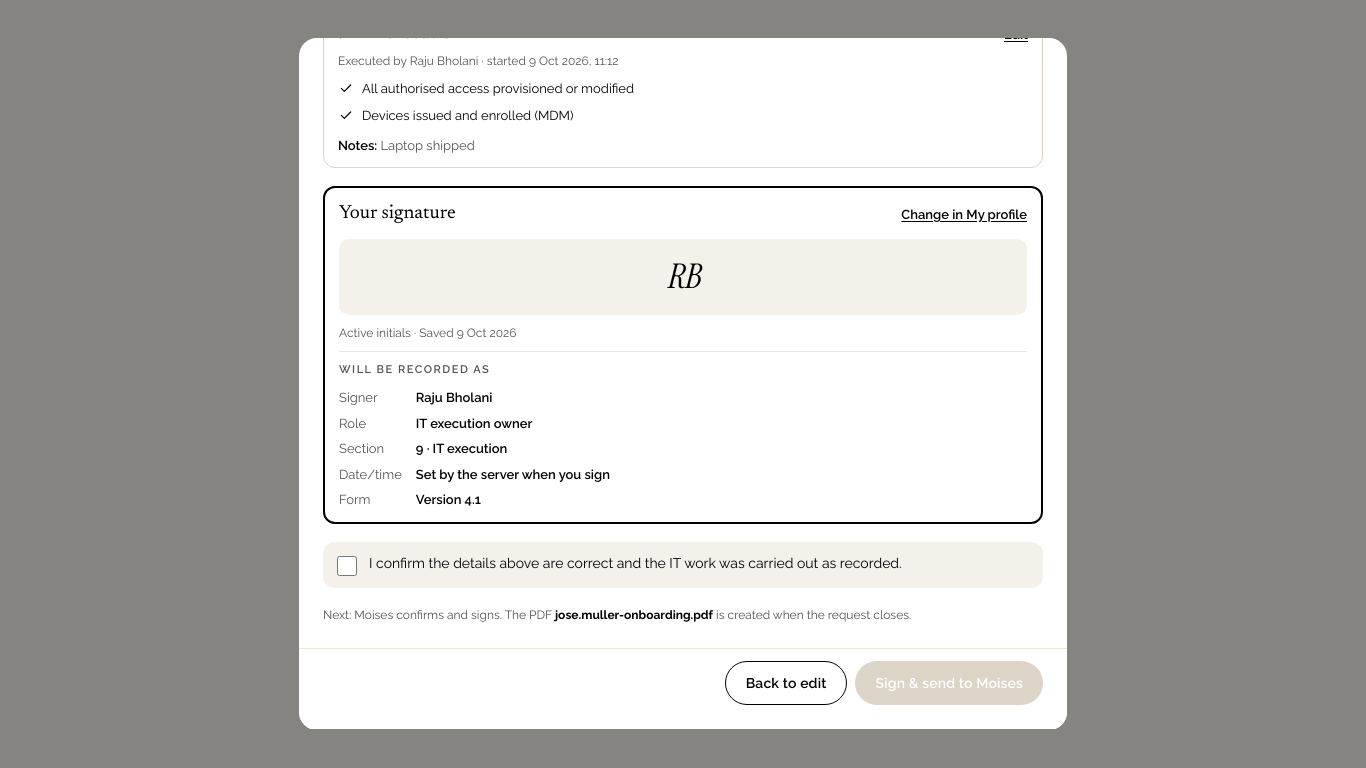
Test: ReviewSignSheet › shows what will be signed, and Sign waits for the confirmation tick
(page scrolled)
Expected: the text "RB" is shown, 666,251 -> 700,302
Expected: the text "Set by the server when you sign" is shown, 416,467 -> 610,482
What coordinates should you click on to do the following:
click the checkbox labelled "I confirm the details above"
I would click on:
 (347, 566)
Its box is 337,556 -> 357,576.
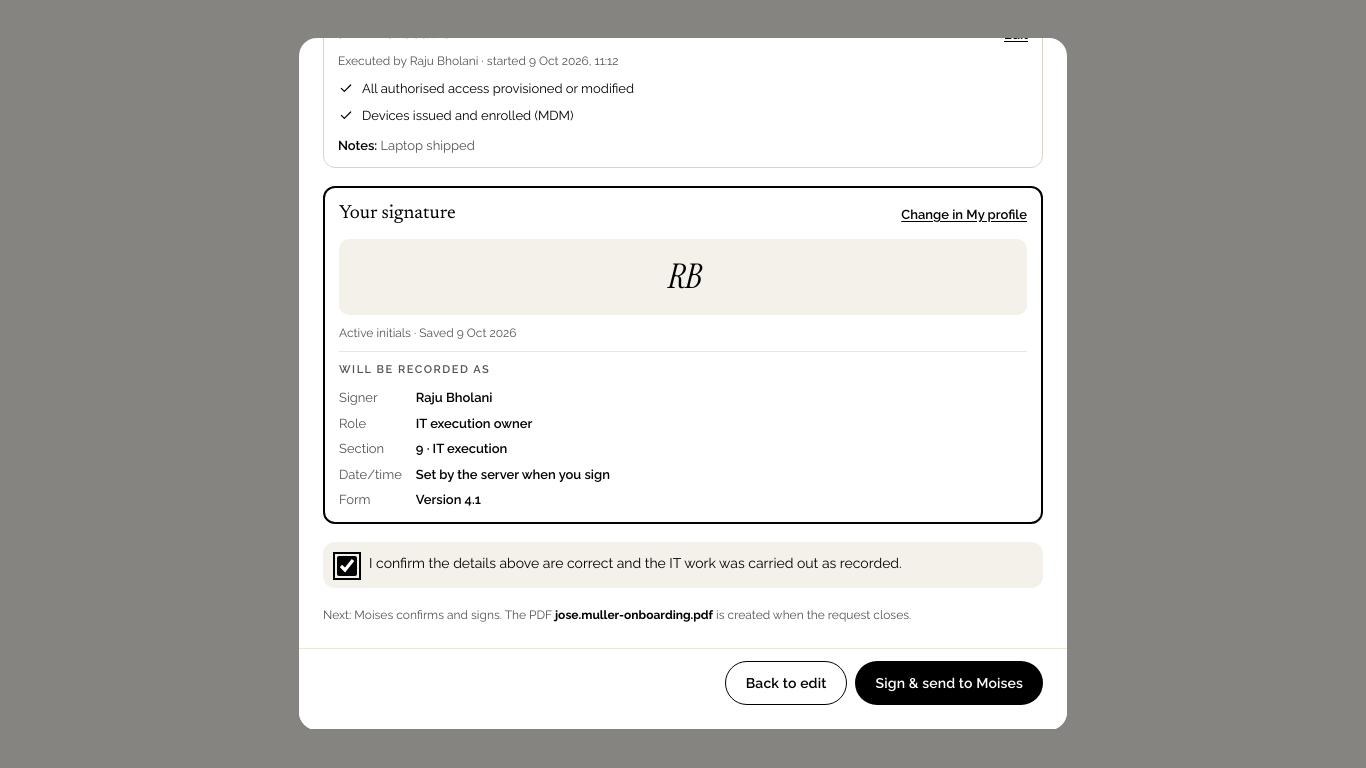
Expected: the button "Sign & send to Moises" is enabled, 856,661 -> 1043,705
